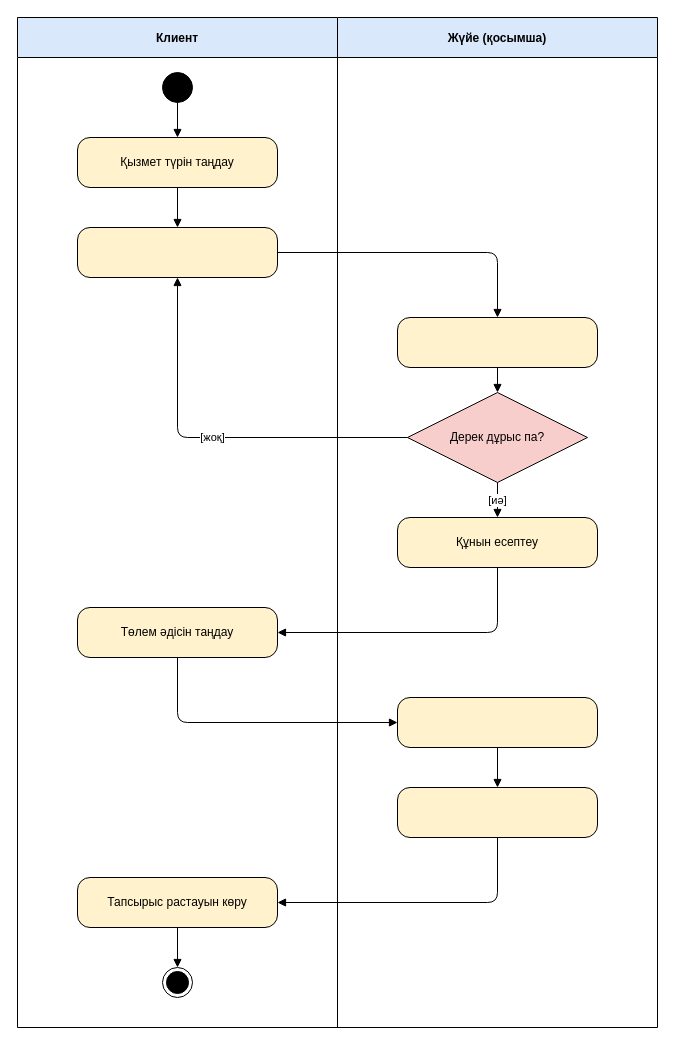
The diagram is 675 pixels wide and 1045 high, and some of its shapes have lost their labels. Each missing label, with the centre of its shape:
"Деректі тексеру" belongs at (497,342).
"Детейлерге хабарлама жіберу" belongs at (497,812).
"Мекенжай мен уақытты көрсету" belongs at (177,252).
"Тапсырысты сақтау" belongs at (497,722).
